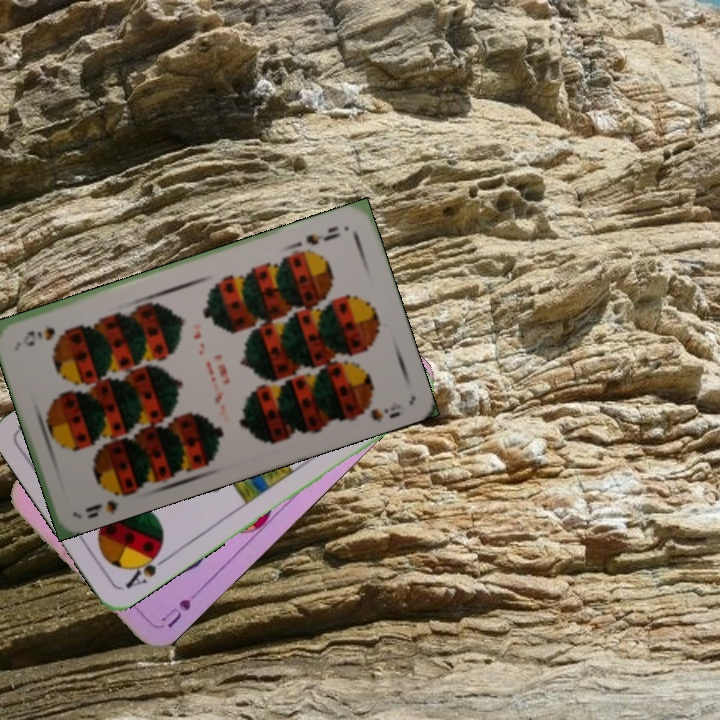S9: (81, 483, 132, 521), (302, 222, 343, 248)
SA: (121, 544, 172, 592)
SU: (157, 583, 205, 630)
